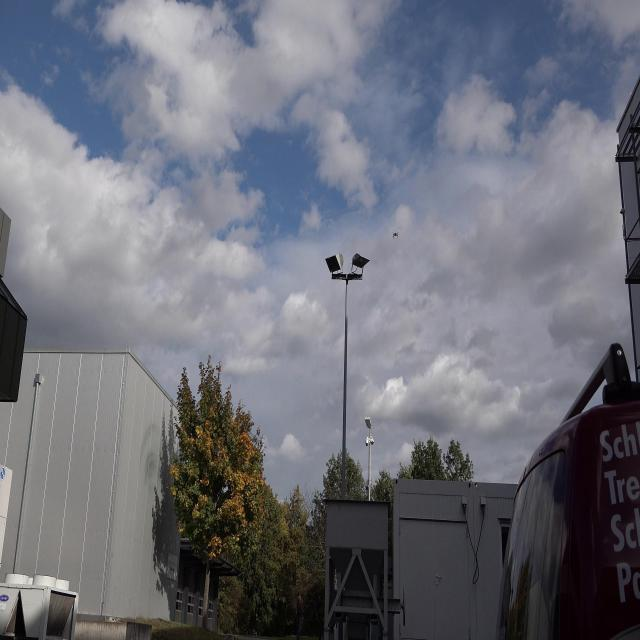drone: (390, 228, 402, 242)
